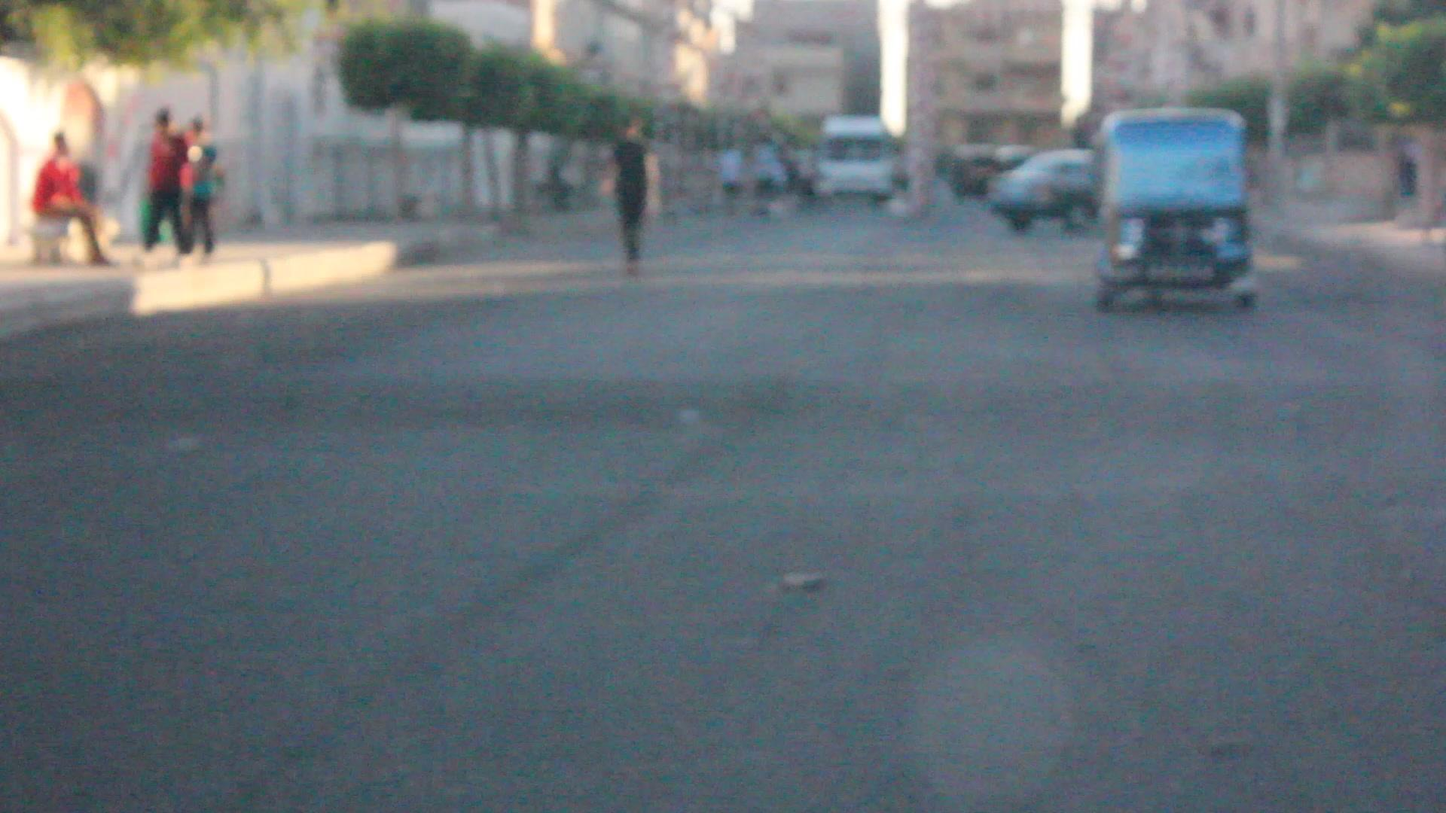Bump: (0, 348, 1446, 457)
